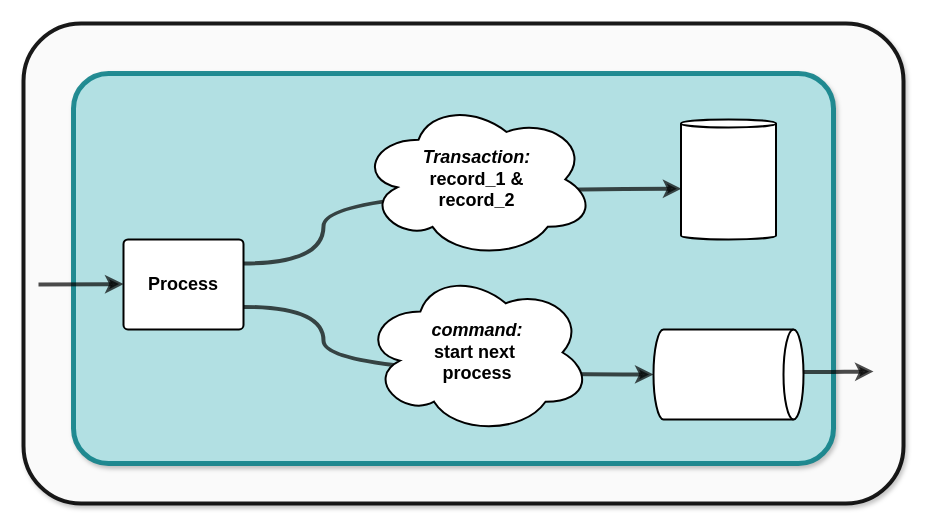
The diagram is 928 pixels wide and 529 high, and some of its shapes have lost their labels. Here are the shapes that lost their labels. From the top down, the centre of each, then its label:
(x=728, y=179): Database
(x=728, y=374): Queue
